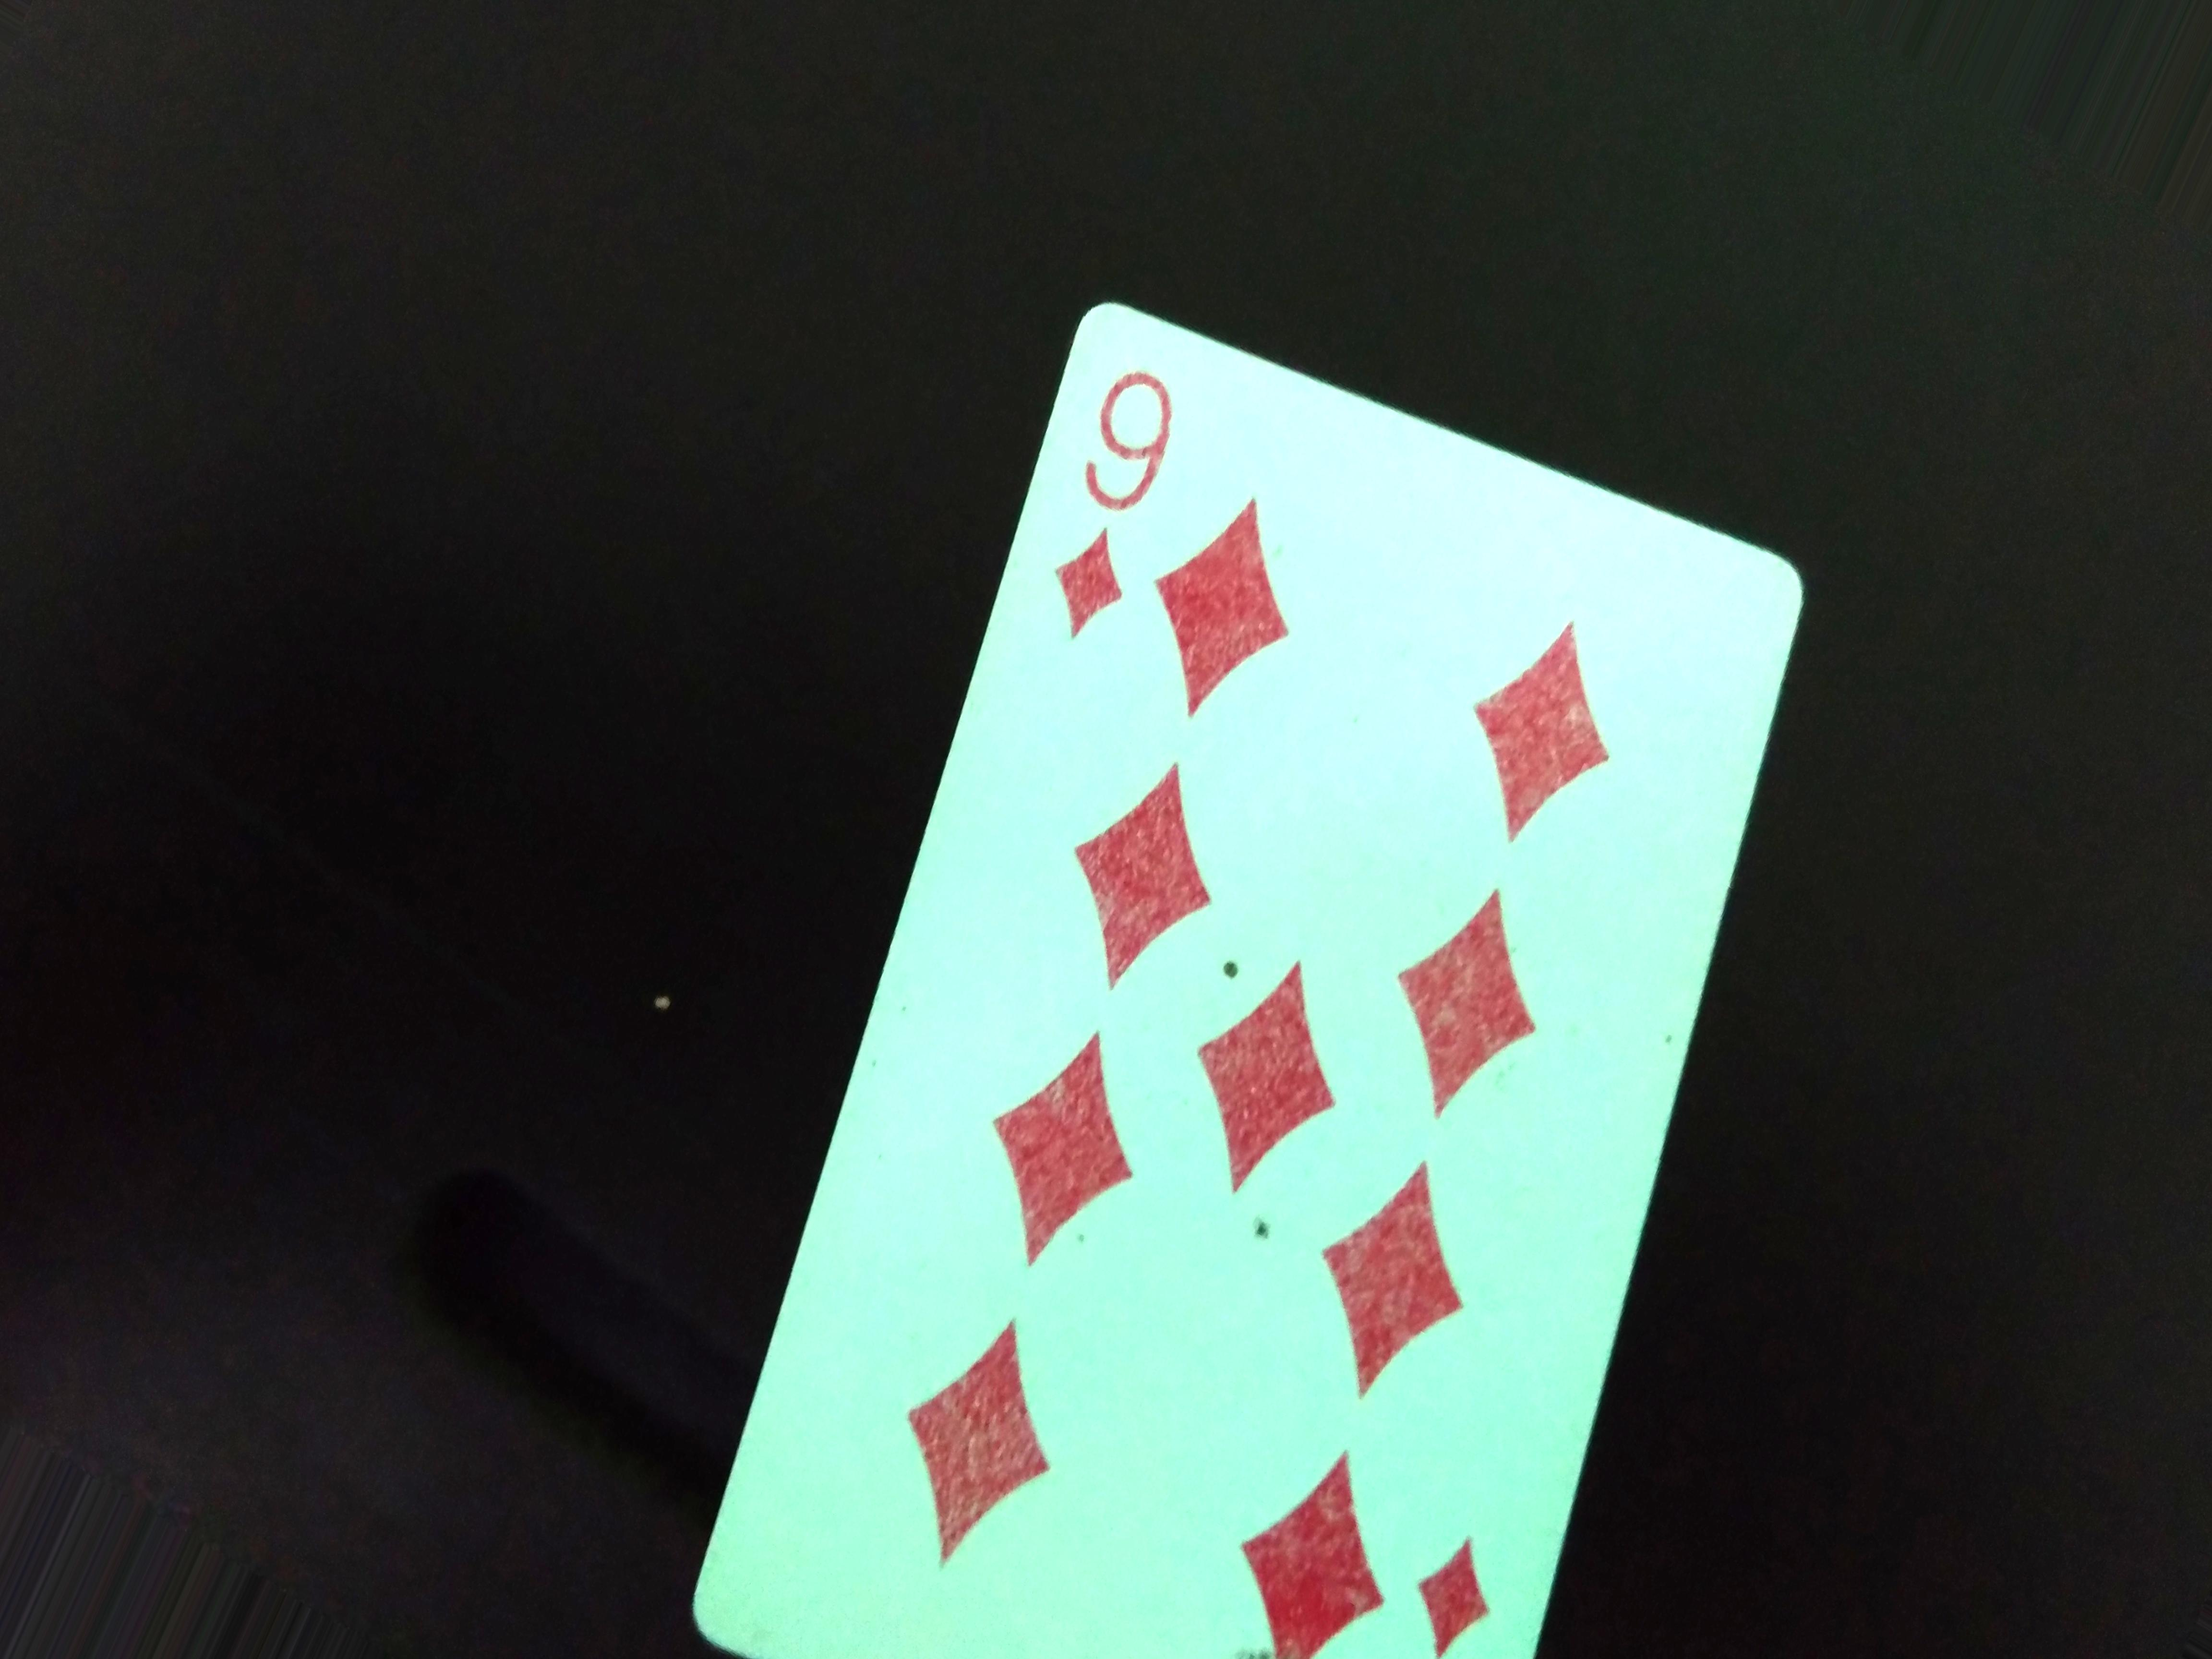9D: (1040, 364, 1191, 645)
